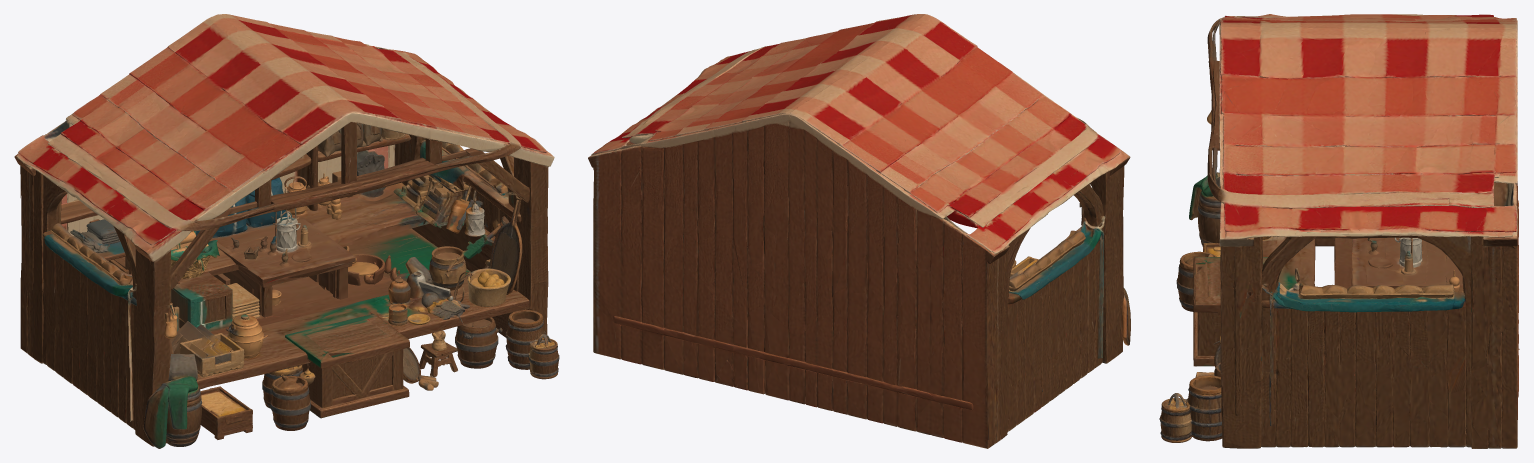
File: GeneralStore_B.glb
The picture shows the model from 3 angles, left to right: view 1: azimuth 30°, elevation 25°; view 2: azimuth 150°, elevation 25°; view 3: azimuth 270°, elevation 25°; orthographic projection. The views are drawn at different scales.
Bounding box in the file's own units: 1.9 × 1.29 × 1.33.
Materials: 1 (1 with a texture image).
